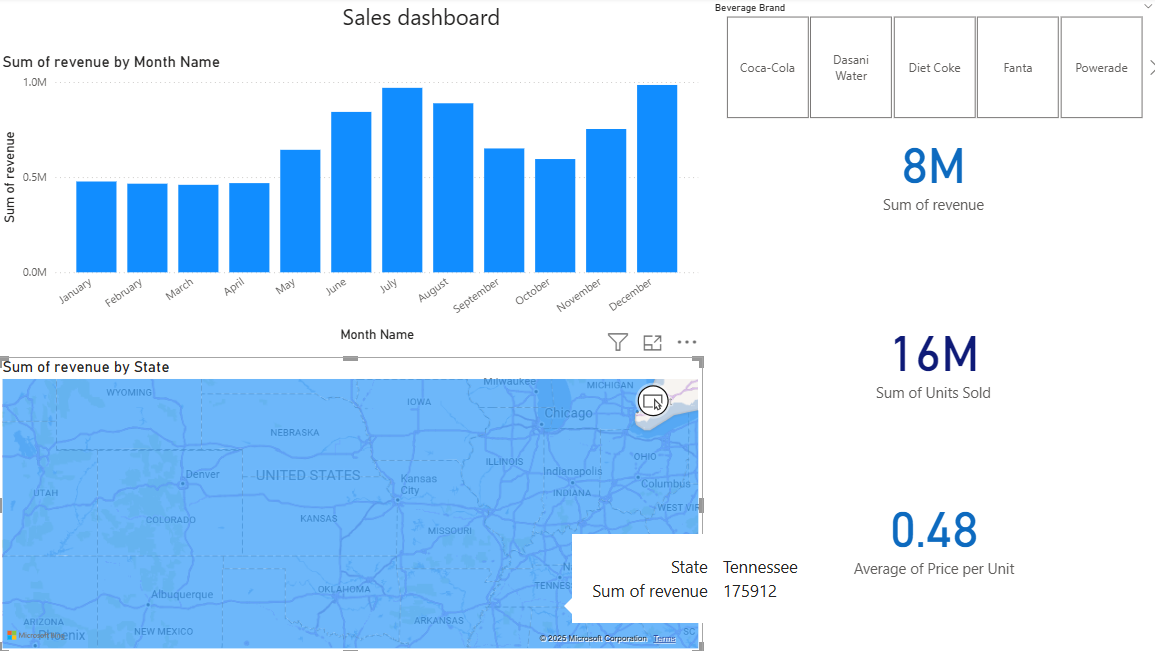

What the dashboard file says about the page in this screenshot:
{"tool":"powerbi","page":{"name":"Page 1","canvas":[1280,720],"ordinal":0},"visuals":[{"type":"clusteredColumnChart","fields":{"Y":["Sum(Table1.revenue)"],"Category":["Table1.Month Name"]},"box":[0,60.4,773.9,323.8],"z":0},{"type":"filledMap","fields":{"Category":["Table1.State"]},"box":[0,395.2,773.9,325.2],"z":1000},{"type":"card","fields":{"Values":["Sum(Table1.revenue)"]},"box":[875.5,108.4,303.3,161.9],"z":2000},{"type":"card","fields":{"Values":["Avg(Table1.Price per Unit)"]},"box":[893.3,524.2,269,129],"z":3000},{"type":"card","fields":{"Values":["Sum(Table1.Units Sold)"]},"box":[875.5,314.2,303.3,161.9],"z":4000},{"type":"slicer","fields":{"Values":["Table1.Beverage Brand"]},"box":[773.9,0,506.3,140],"z":4001},{"type":"textbox","box":[373.2,0,247,48],"z":4002}]}

Visuals, with their boxes in screenshot pixels (x1, y1, x2, y2), scaled from the page's 1280x720 canvas onto the 1155x651 screenshot:
clusteredColumnChart - Sum(Table1.revenue) x Table1.Month Name: rect(0, 55, 698, 347)
filledMap - Table1.State: rect(0, 357, 698, 650)
card - Sum(Table1.revenue): rect(790, 98, 1064, 244)
card - Avg(Table1.Price per Unit): rect(806, 474, 1049, 591)
card - Sum(Table1.Units Sold): rect(790, 284, 1064, 430)
slicer - Table1.Beverage Brand: rect(698, 0, 1154, 127)
textbox: rect(337, 0, 560, 43)
